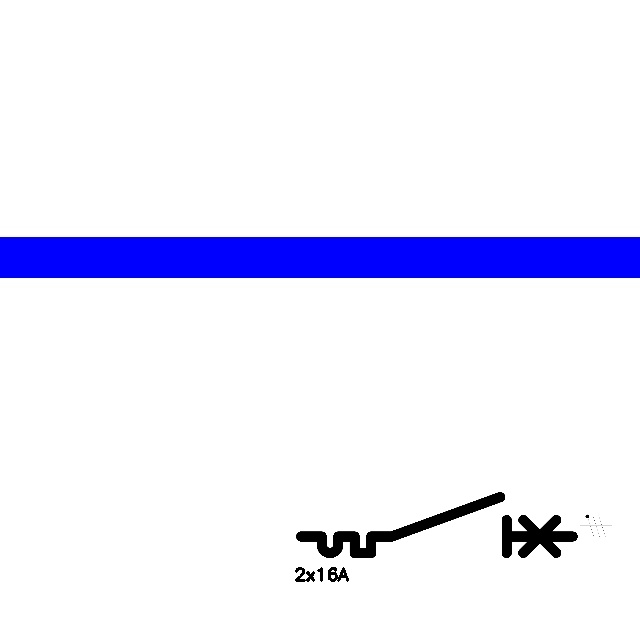interruptor_termomagnetico: (294, 490, 580, 560)
